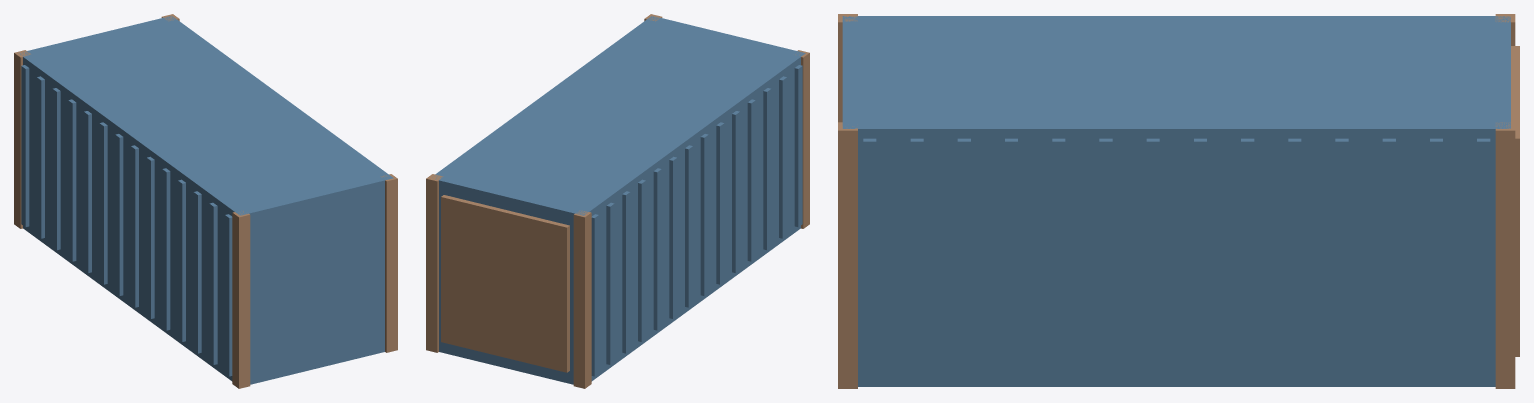
The model's file is Container_Blue.fbx.
The picture shows the model from 3 angles, left to right: view 1: azimuth 30°, elevation 25°; view 2: azimuth 150°, elevation 25°; view 3: azimuth 270°, elevation 25°; orthographic projection. The views are drawn at different scales.
Visible parts, largest first — view 1: Container_Blue_Mesh; view 2: Container_Blue_Mesh; view 3: Container_Blue_Mesh.
Boxes of the visible parts, x1,y1,x2,y2 form: Container_Blue_Mesh: [14, 14, 397, 388]; Container_Blue_Mesh: [426, 14, 809, 388]; Container_Blue_Mesh: [838, 14, 1519, 388].
Size of the model in its own units: 2.56 by 6.22 by 2.6.
